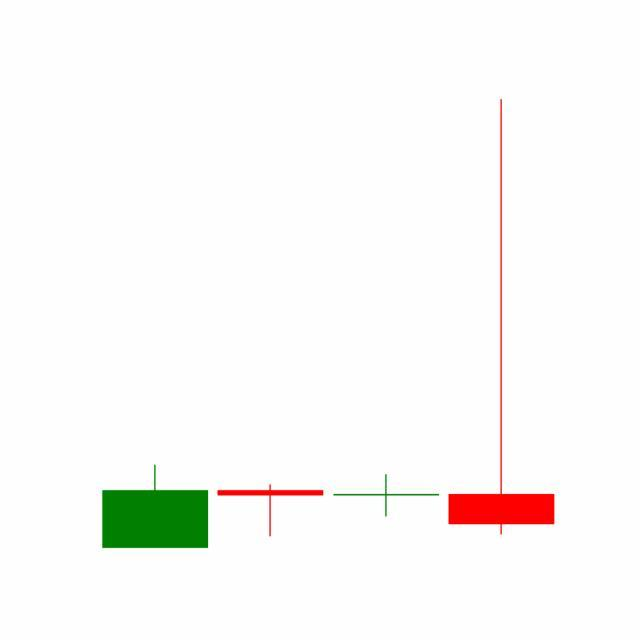Spinning Top: (329, 474, 445, 519)
